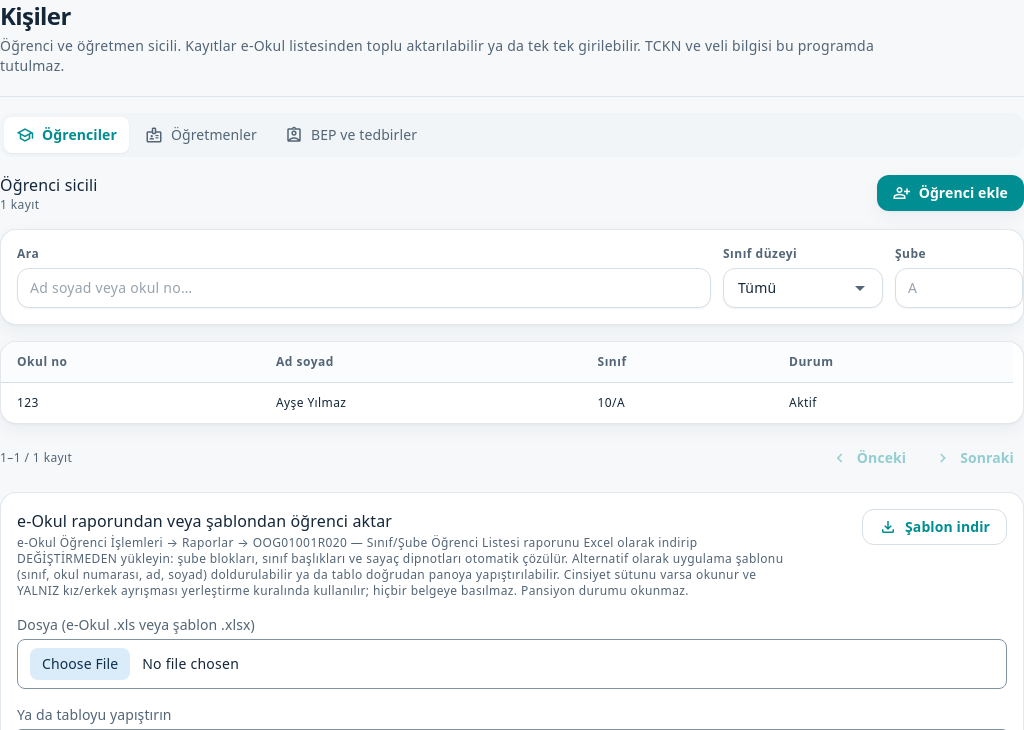
Test case: KisilerPage — öğrenci ekleme/düzenleme/silme › zorunlu alan boşken istek atılmaz, hata alanın altında görünür
Expected: the text "Ayşe Yılmaz" is shown, [260,382,582,423]
Step 1. Click the button "Öğrenci ekle" → x=950, y=193, box [877,175,1023,211]
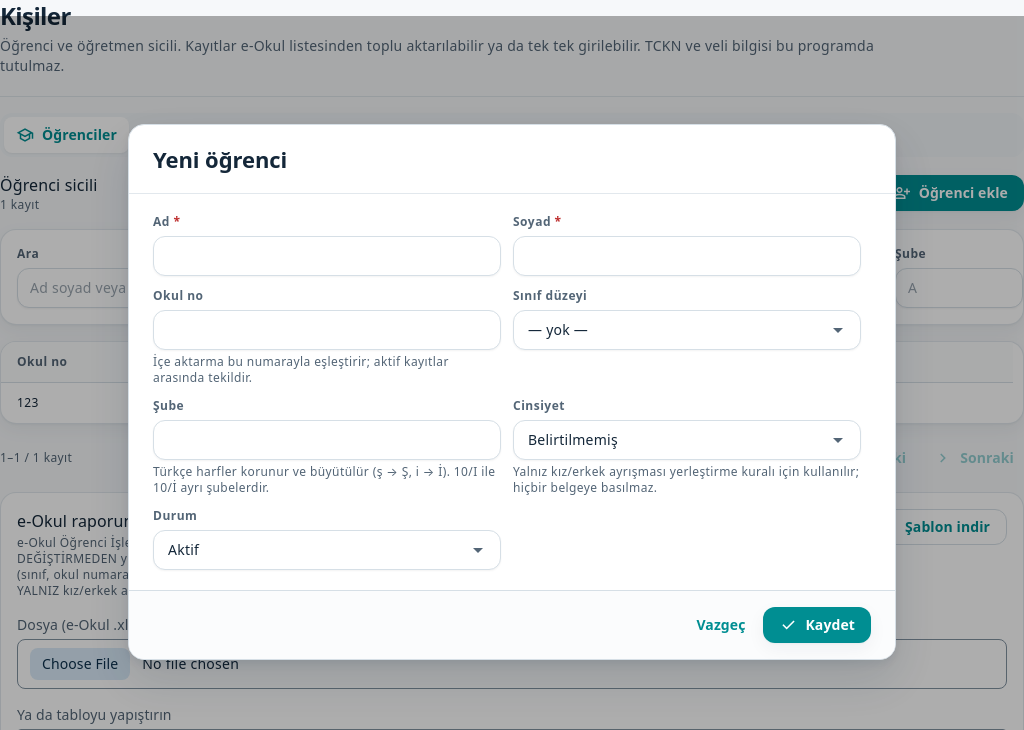
Step 2. Click the button "Kaydet" → x=817, y=625, box [764,607,871,643]
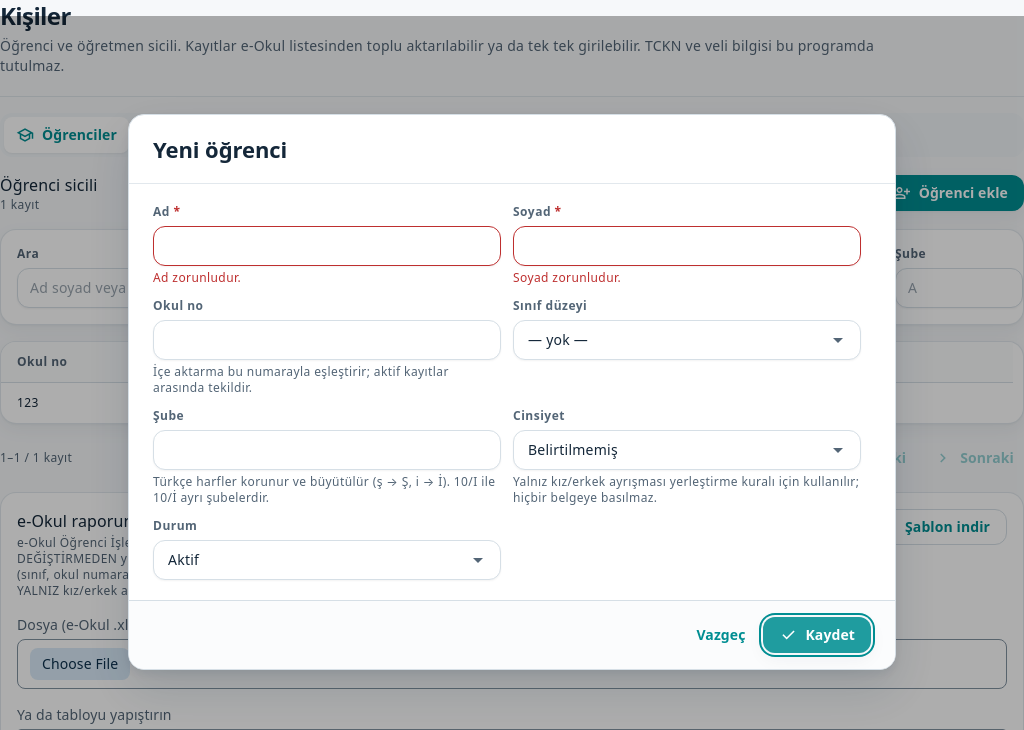
Expected: the text "Ad zorunludur." is shown, [153,269,241,286]
Expected: the text "Soyad zorunludur." is shown, [513,269,621,286]
